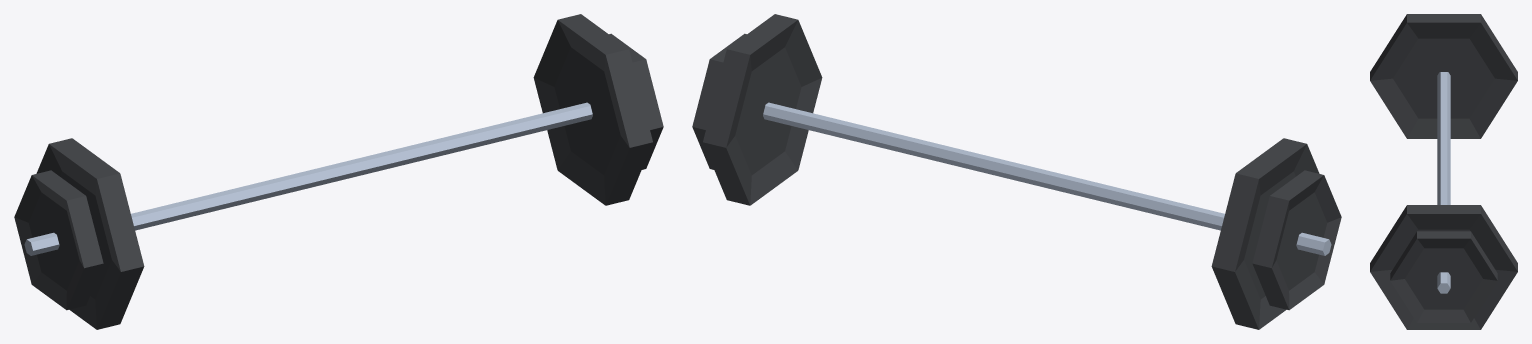
File: Bar 2.fbx
3 views of the same model, side by side, from view 1: azimuth 30°, elevation 25°; view 2: azimuth 150°, elevation 25°; view 3: azimuth 270°, elevation 25° (orthographic). The views are drawn at different scales.
Visible parts, largest first — view 1: bar 2; view 2: bar 2; view 3: bar 2.
Boxes of the visible parts, x1,y1,x2,y2 form: bar 2: (14,14,663,329); bar 2: (692,14,1341,329); bar 2: (1370,14,1517,329).
Size of the model in its own units: 220 by 51.14 by 59.06.
